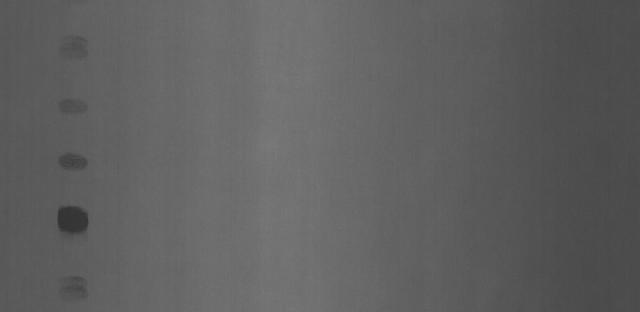oil_spot: (51, 203, 93, 234), (57, 272, 90, 308), (51, 86, 87, 115), (54, 152, 88, 172), (58, 34, 86, 57)
